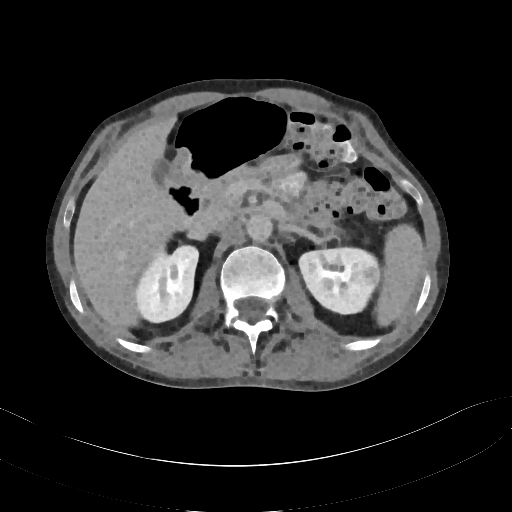Lesion: (360, 266, 381, 286)
